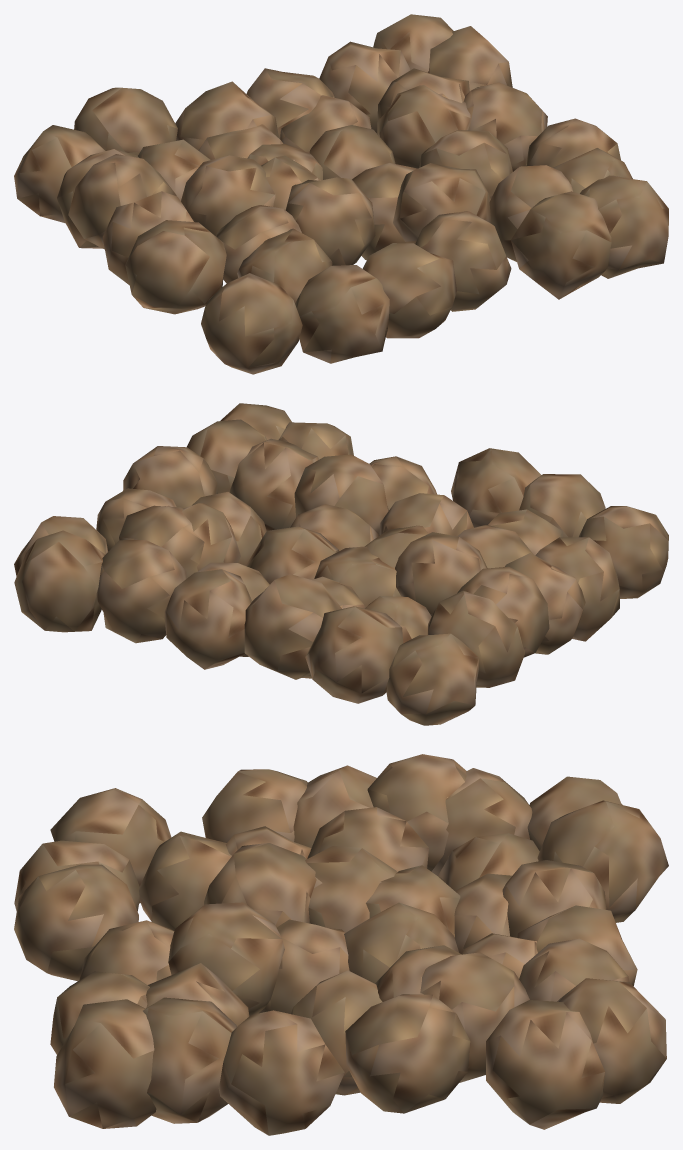
The model's file is SM_PizzaTopping_CookedBeef_Grouped.fbx.
3 renders of one model, top to bottom at view 1: azimuth 30°, elevation 25°; view 2: azimuth 150°, elevation 25°; view 3: azimuth 270°, elevation 25°, orthographic. The views are drawn at different scales.
Visible parts, largest first — view 1: SM_PizzaTopping_CookedBeef_Grouped; view 2: SM_PizzaTopping_CookedBeef_Grouped; view 3: SM_PizzaTopping_CookedBeef_Grouped.
Part boxes in pixels (bbox=[...]): SM_PizzaTopping_CookedBeef_Grouped: bbox=[14, 14, 668, 374]; SM_PizzaTopping_CookedBeef_Grouped: bbox=[14, 403, 668, 725]; SM_PizzaTopping_CookedBeef_Grouped: bbox=[14, 754, 668, 1135].
Bounding box in the file's own units: 7.24 × 1.7 × 6.81.
